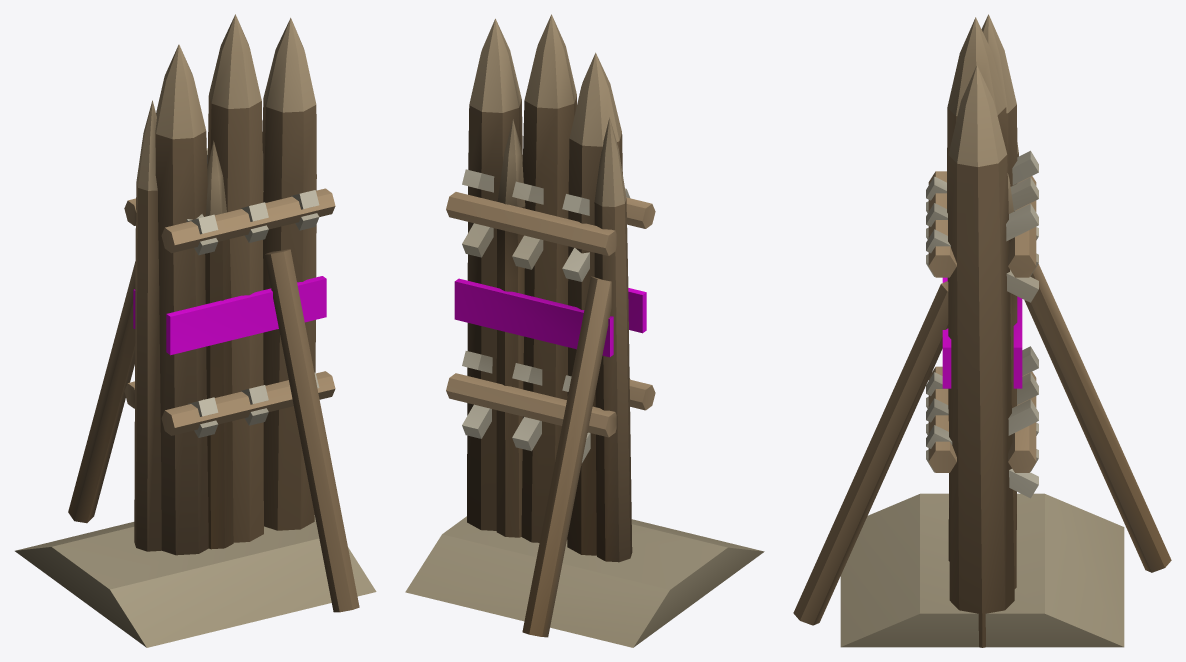
File: palisade_link.glb
3 views of the same model, side by side, from view 1: azimuth 30°, elevation 25°; view 2: azimuth 150°, elevation 25°; view 3: azimuth 270°, elevation 25° (orthographic). The views are drawn at different scales.
Parts seen in each view (by area): view 1: Body; view 2: Body; view 3: Body.
Part boxes in pixels (x1,y1,x2,y2): Body: (15, 14, 376, 647); Body: (405, 14, 764, 647); Body: (793, 14, 1171, 647).
Size of the model in its own units: 1.01 by 2.29 by 1.33.
Materials: 1 (1 with a texture image).
